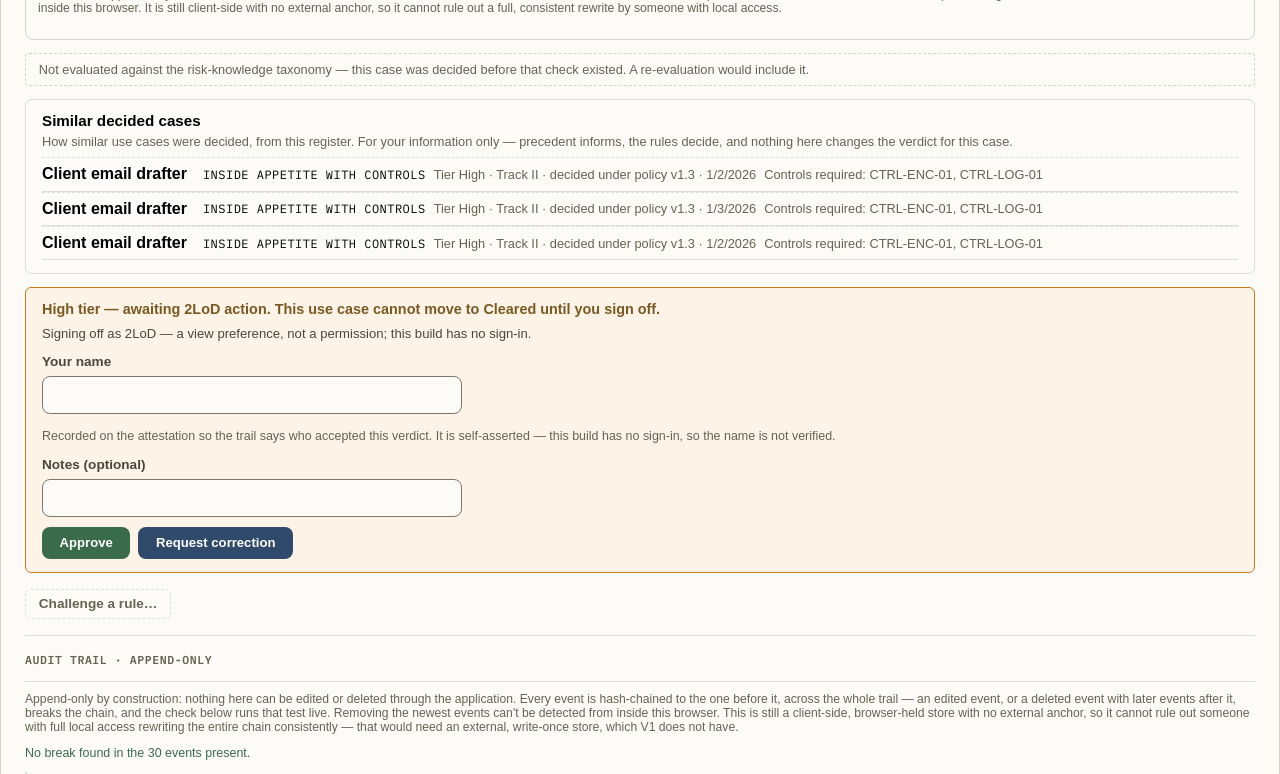
Scenario: RegisterDetail — the sign-off names the verdict it attests to (P8-C08) › TC-R3-RD-3-03: a verdict changing under the reviewer refuses the write and says why
(page scrolled)
Type "Priya Nair" into the field labelled "Your name". click: (252, 395)
box: left=42, top=376, right=462, bottom=414
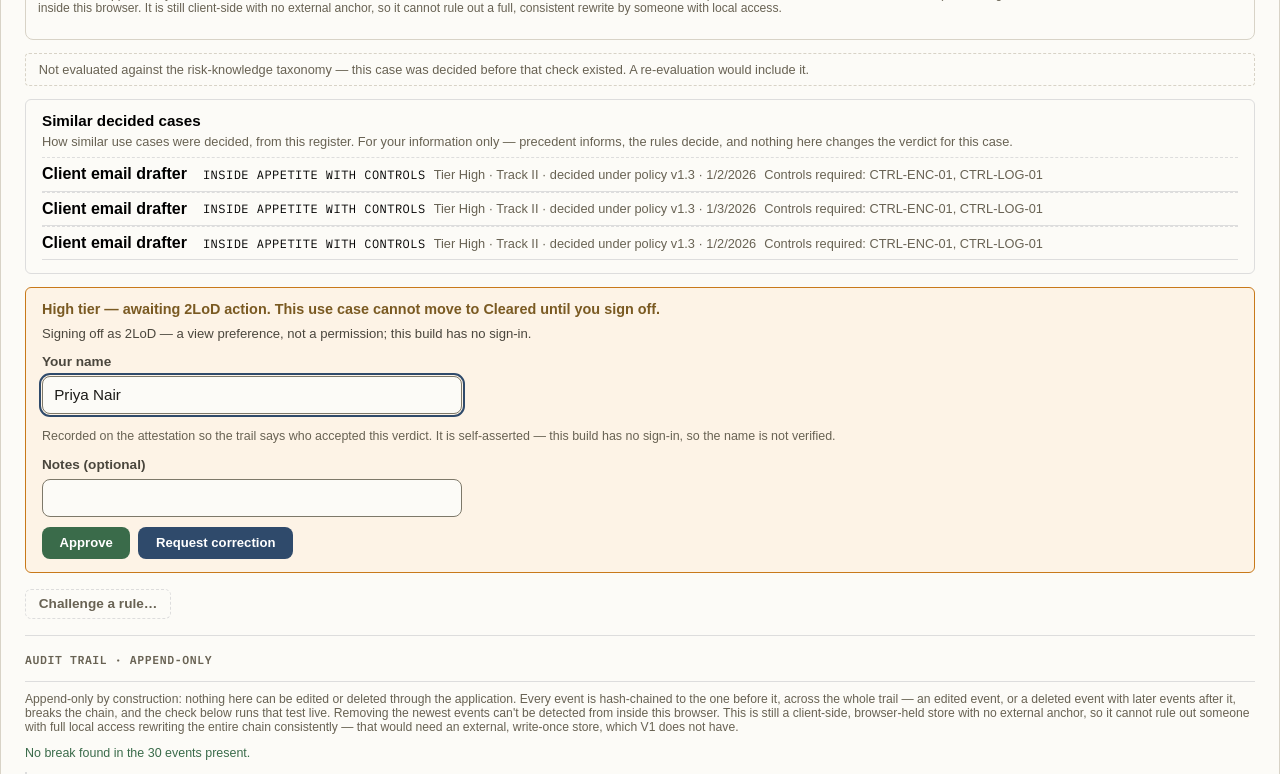
Click the button "Approve". click: (86, 543)
box: left=42, top=527, right=130, bottom=559
(page scrolled)
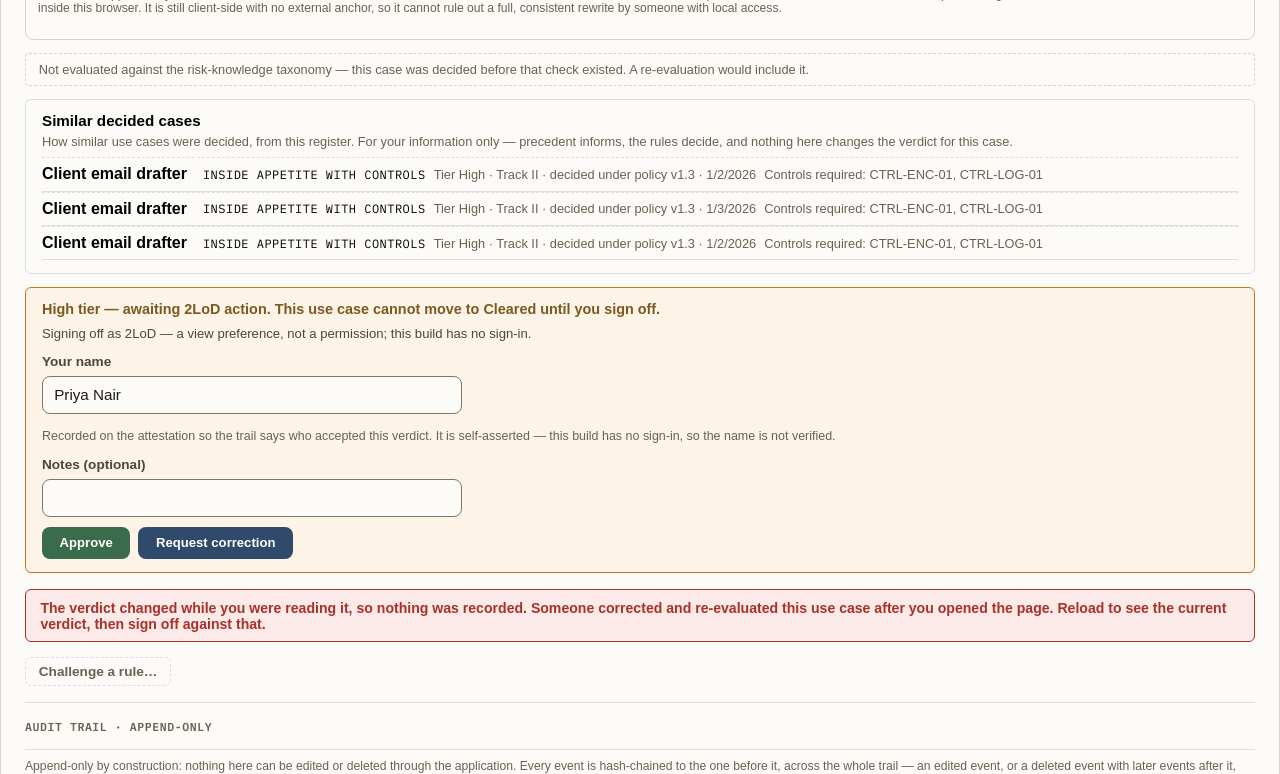
Expected: the text "verdict changed while you were reading" is shown, left=40, top=600, right=1226, bottom=632
